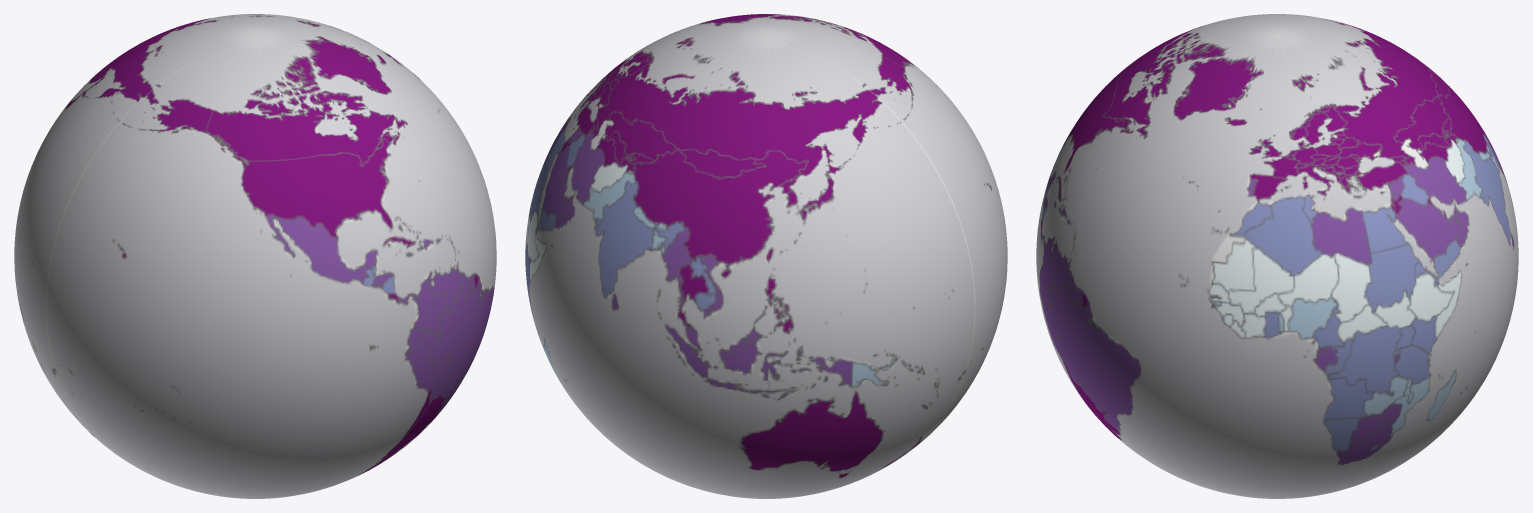
Rendered from OverlayedSphere.fbx.
3 renders of one model, left to right at view 1: azimuth 30°, elevation 25°; view 2: azimuth 150°, elevation 25°; view 3: azimuth 270°, elevation 25°, orthographic.
Parts seen in each view (by area): view 1: Sphere.001_Sphere.003; view 2: Sphere.001_Sphere.003; view 3: Sphere.001_Sphere.003.
Boxes of the visible parts, <box> form: Sphere.001_Sphere.003: <box>14,14,496,498</box>; Sphere.001_Sphere.003: <box>525,14,1007,498</box>; Sphere.001_Sphere.003: <box>1036,14,1518,498</box>.
Size of the model in its own units: 199 by 202 by 199.
